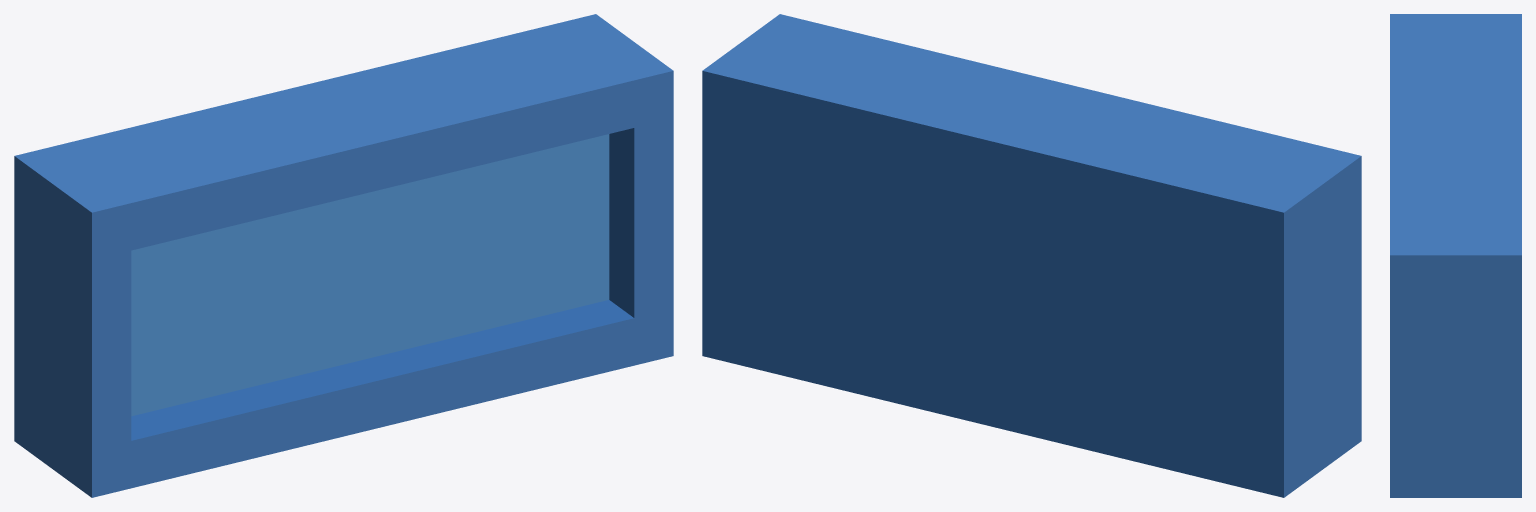
The model's file is time.fbx.
The picture shows the model from 3 angles, left to right: view 1: azimuth 30°, elevation 25°; view 2: azimuth 150°, elevation 25°; view 3: azimuth 270°, elevation 25°; orthographic projection. The views are drawn at different scales.
Parts seen in each view (by area): view 1: time; view 2: time; view 3: time.
Part boxes in pixels (x1=…): time: x1=14, y1=14, x2=673, y2=497; time: x1=702, y1=14, x2=1361, y2=497; time: x1=1390, y1=14, x2=1521, y2=497.
Bounding box in the file's own units: 82.77 × 38.79 × 19.12.
